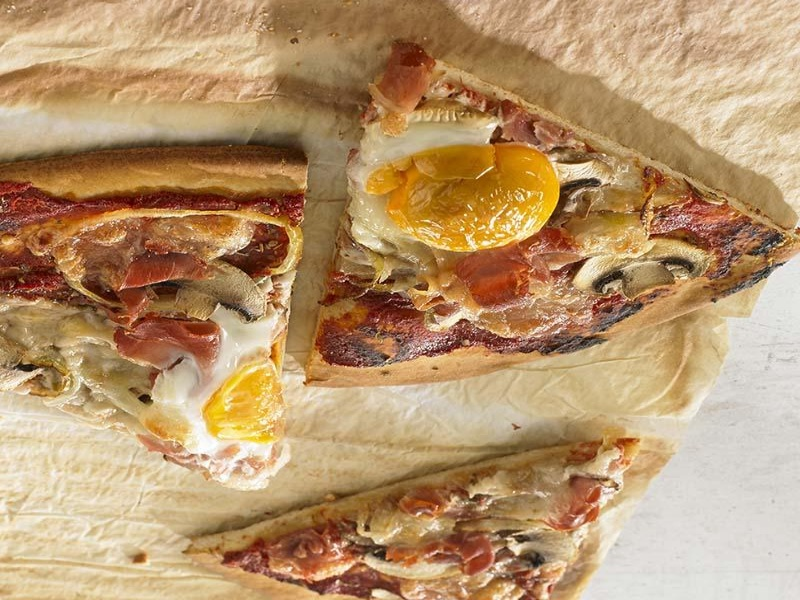champignon: (563, 234, 713, 306), (162, 256, 276, 330)
oeuf: (361, 140, 585, 258), (184, 347, 304, 461)
